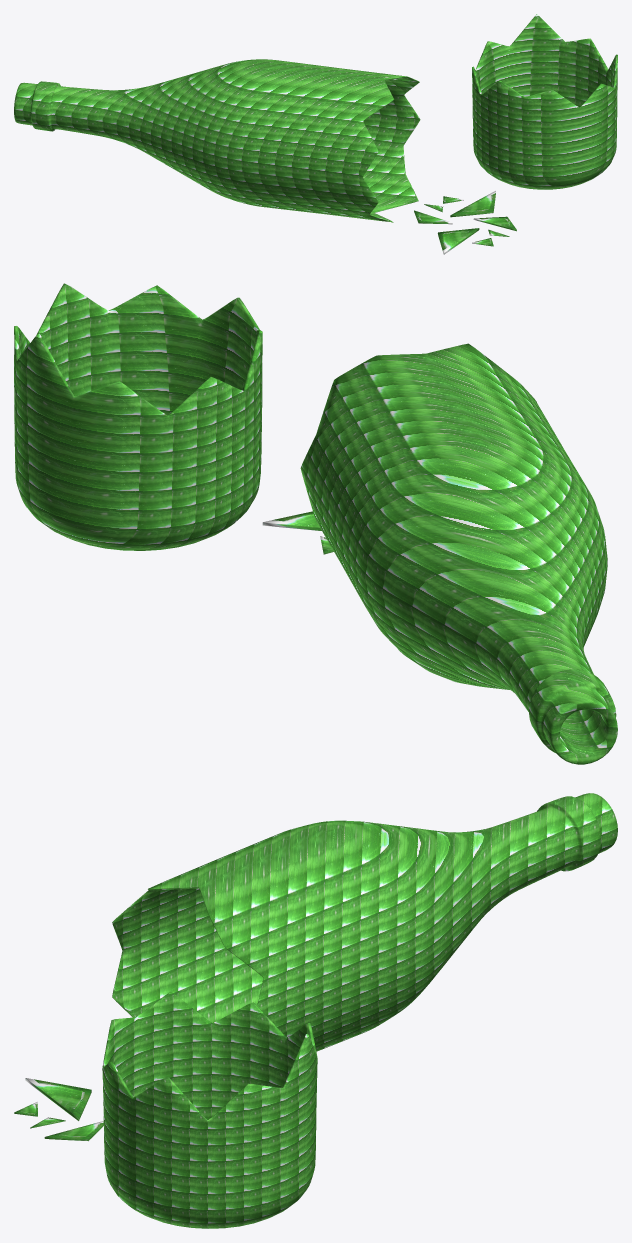
The model's file is broken_bottle.obj.
3 renders of one model, top to bottom at view 1: azimuth 30°, elevation 25°; view 2: azimuth 150°, elevation 25°; view 3: azimuth 270°, elevation 25°, orthographic. The views are drawn at different scales.
Visible parts, largest first — view 1: Botella_rota_parte_de_abajo_Untitled; view 2: Botella_rota_parte_de_abajo_Untitled; view 3: Botella_rota_parte_de_abajo_Untitled.
Boxes of the visible parts, box(x1,y1,x2,y2) form: Botella_rota_parte_de_abajo_Untitled: box(14, 14, 617, 254); Botella_rota_parte_de_abajo_Untitled: box(14, 283, 617, 764); Botella_rota_parte_de_abajo_Untitled: box(14, 793, 617, 1228).
Size of the model in its own units: 0.4405 by 0.12 by 0.3348.
1 material, 1 textured.
